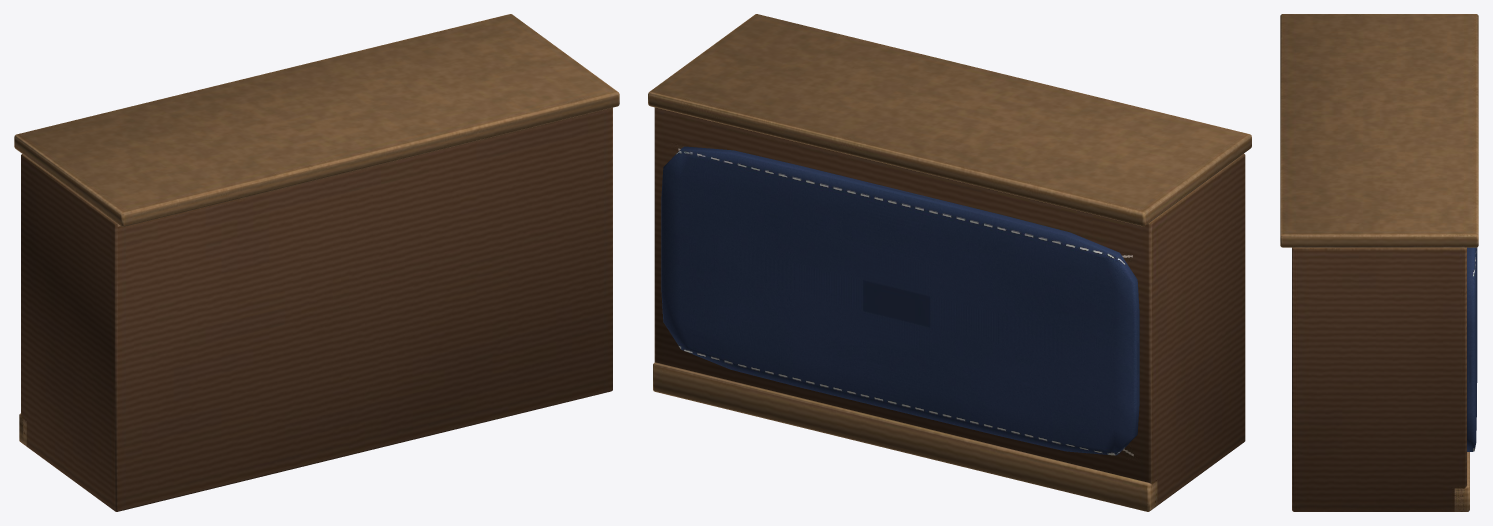
File: counter_indigo.glb
3 views of the same model, side by side, from view 1: azimuth 30°, elevation 25°; view 2: azimuth 150°, elevation 25°; view 3: azimuth 270°, elevation 25° (orthographic). The views are drawn at different scales.
Parts seen in each view (by area): view 1: prop_counter_indigo_wood; view 2: prop_counter_indigo_wood, prop_counter_indigo_felt; view 3: prop_counter_indigo_wood, prop_counter_indigo_felt.
Part boxes in pixels (x1=…): prop_counter_indigo_wood: x1=14, y1=14, x2=619, y2=511; prop_counter_indigo_wood: x1=648, y1=14, x2=1251, y2=511; prop_counter_indigo_felt: x1=661, y1=146, x2=1139, y2=455; prop_counter_indigo_wood: x1=1280, y1=14, x2=1478, y2=511; prop_counter_indigo_felt: x1=1467, y1=247, x2=1477, y2=451.
Size of the model in its own units: 3.6 by 2.1 by 1.36.
Materials: 2 (2 with a texture image).
